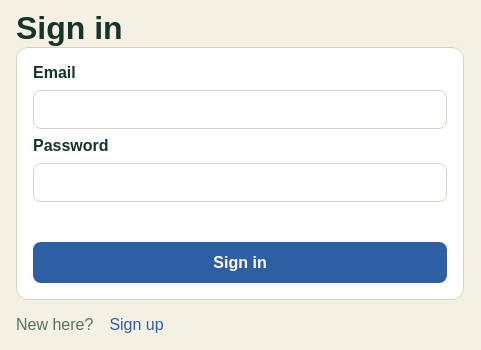
Test case: a server error says the backend had a problem, not that it is unreachable
Step 1. Type "dana@example.com" into the field labelled "Email" → (240, 110), box [33,90,447,129]
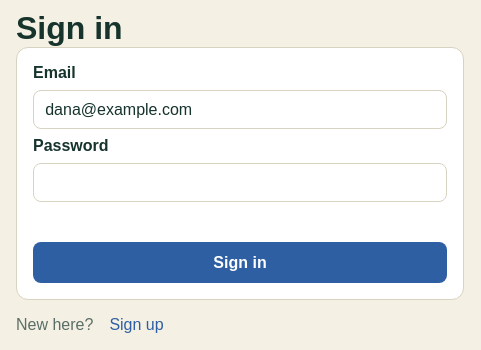
Step 2. Type "cornhole1" into the password field labelled "Password" → (240, 183), box [33,163,447,202]
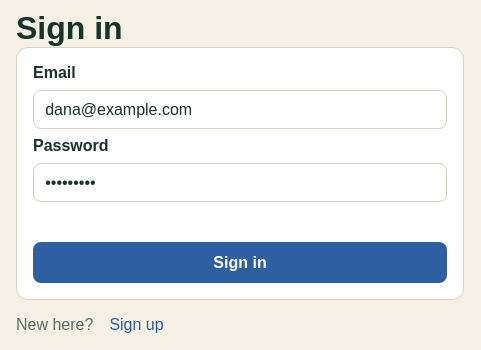
Step 3. Click the button "Sign in" → click(240, 263), box [33,242,447,283]
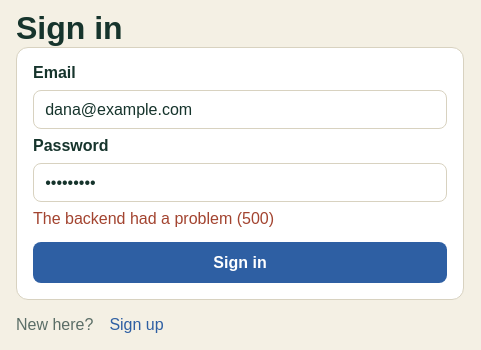
Check: the text "The backend had a problem (500)" is shown, box [33,210,274,227]
